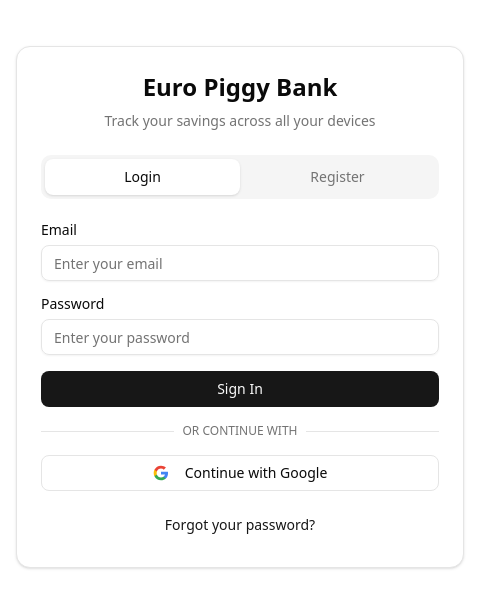
Scenario: LoginPage › displays error message when Google authentication fails
Click the button "Continue with Google".
click(240, 473)  # box [41,455,439,491]
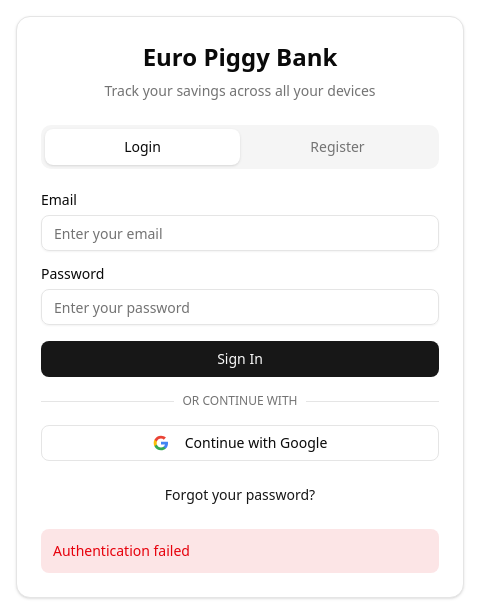
Check: the text "Authentication failed" is shown, box [41,529,439,573]
